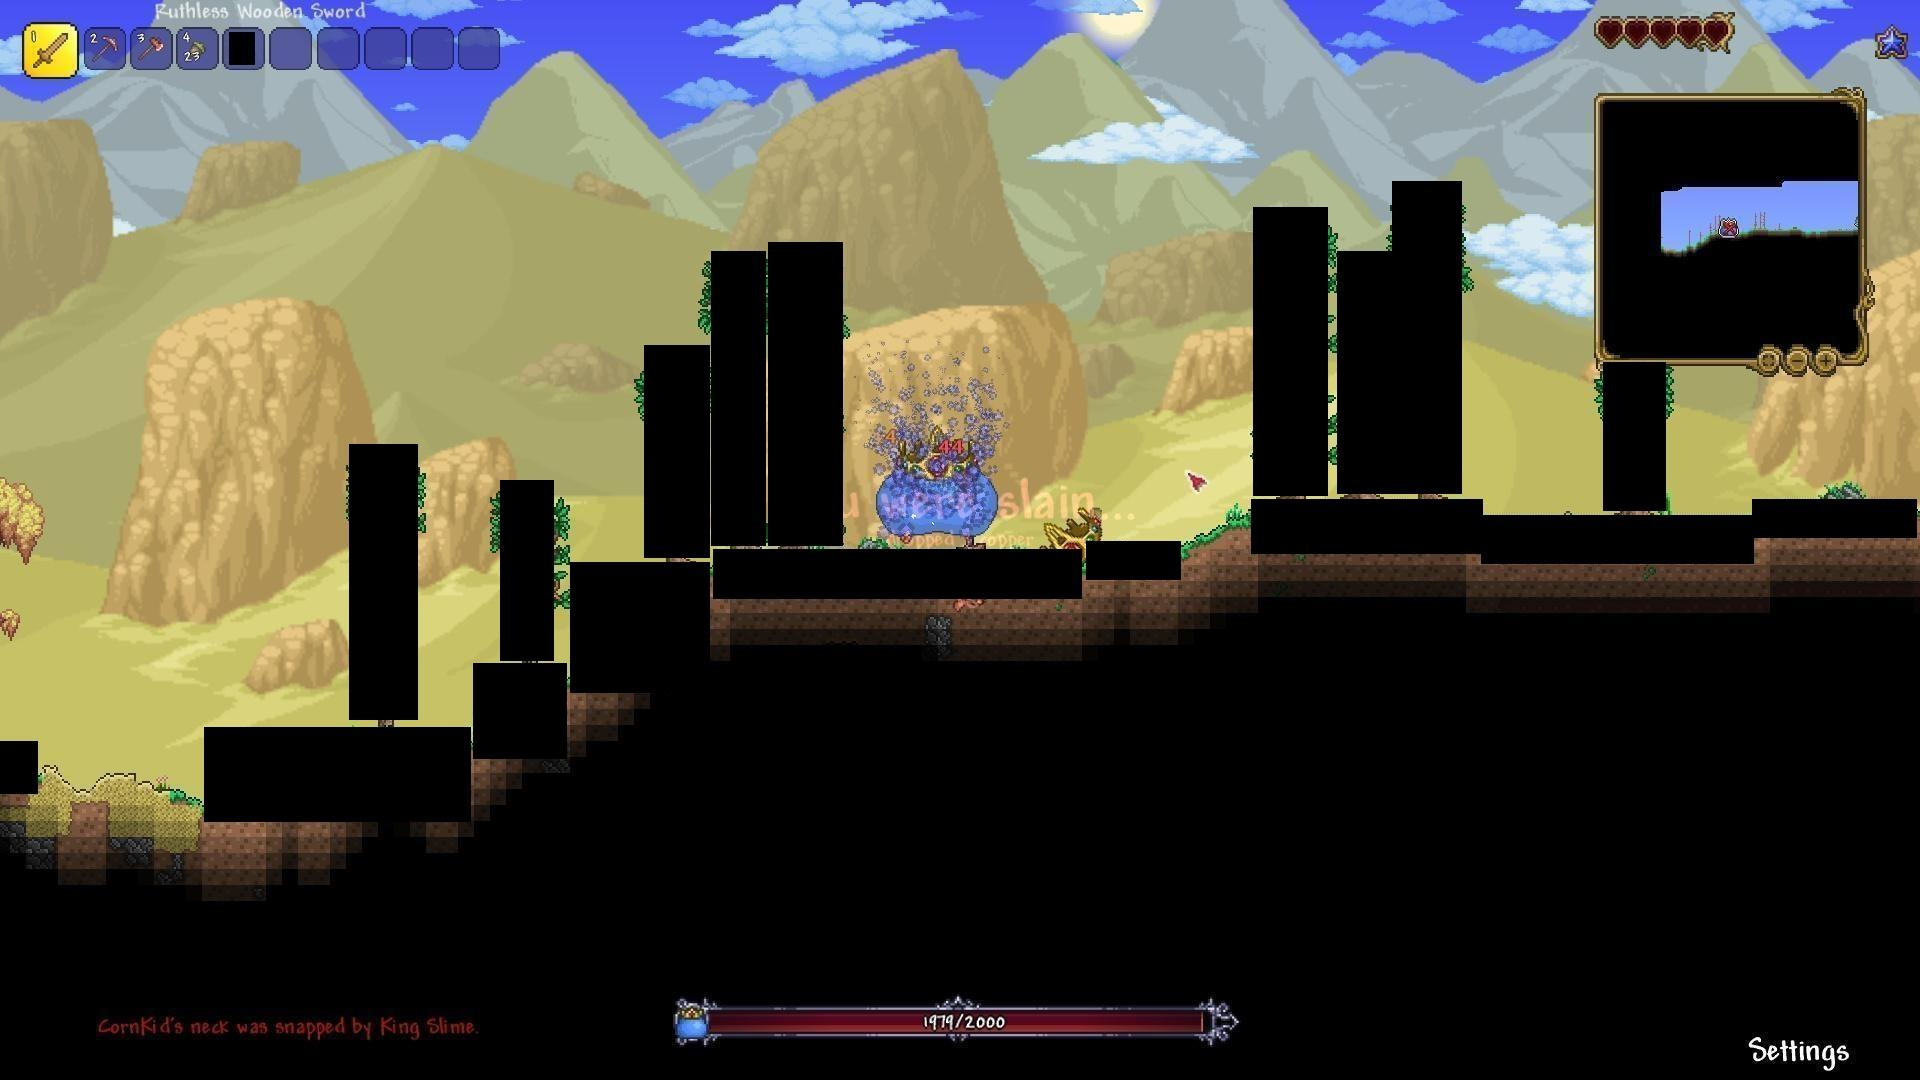dirt: (1185, 512, 1250, 568)
